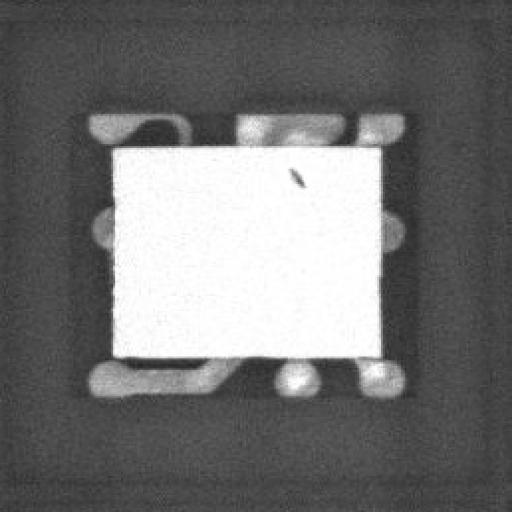DIE_INK: (273, 170, 292, 194)
